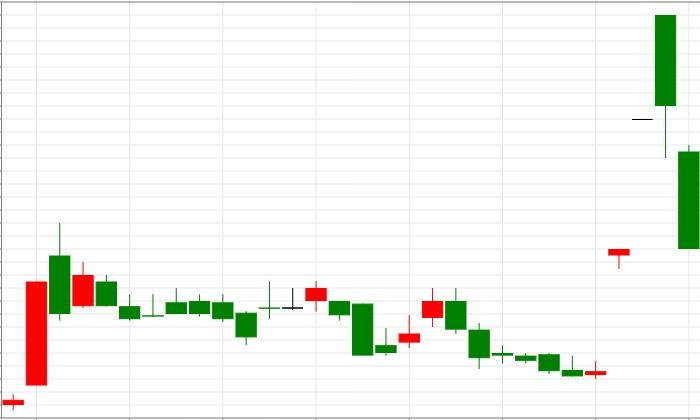bearish_engulfing_fall: (374, 287, 467, 356)
